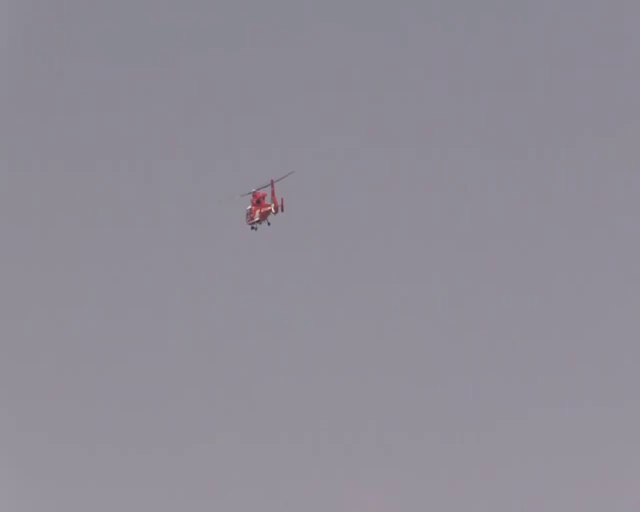HELICOPTER: (239, 169, 296, 231)
